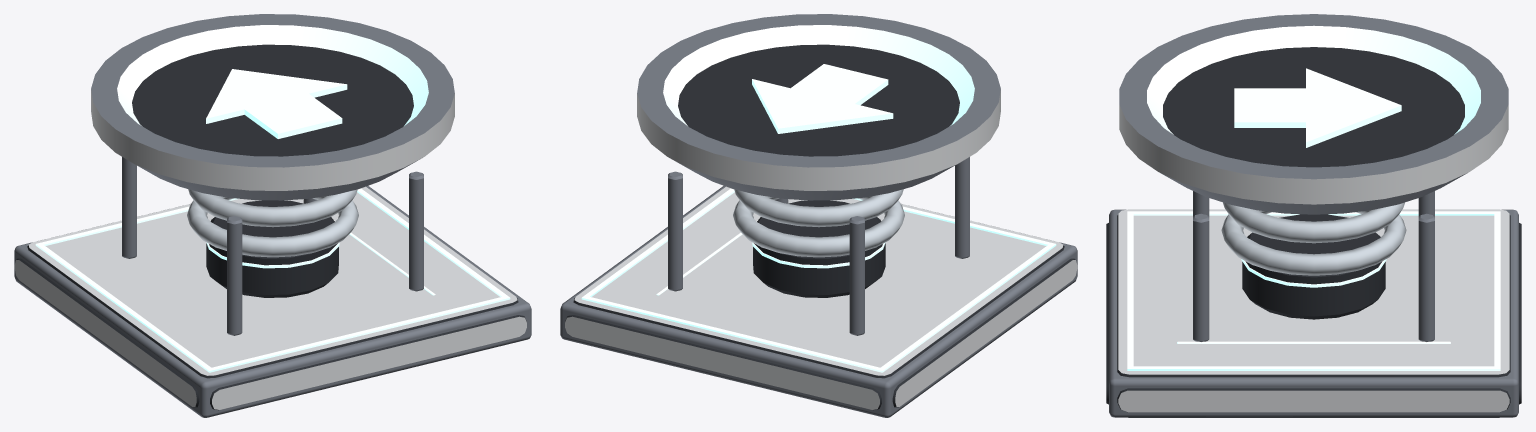
Rendered from R4X_JumpPadDeployer.fbx.
3 views of the same model, side by side, from view 1: azimuth 30°, elevation 25°; view 2: azimuth 150°, elevation 25°; view 3: azimuth 270°, elevation 25° (orthographic). The views are drawn at different scales.
Visible parts, largest first — view 1: R4X_JumpPadDeployer_Body, R4X_JumpPadDeployer_Pad; view 2: R4X_JumpPadDeployer_Body, R4X_JumpPadDeployer_Pad; view 3: R4X_JumpPadDeployer_Body, R4X_JumpPadDeployer_Pad.
Boxes of the visible parts, box(x1,y1,x2,y2) form: R4X_JumpPadDeployer_Body: box(14, 157, 531, 417); R4X_JumpPadDeployer_Pad: box(91, 14, 454, 200); R4X_JumpPadDeployer_Body: box(560, 157, 1077, 417); R4X_JumpPadDeployer_Pad: box(637, 14, 1000, 200); R4X_JumpPadDeployer_Body: box(1106, 191, 1521, 417); R4X_JumpPadDeployer_Pad: box(1119, 14, 1508, 214).
Bounding box in the file's own units: 0.52 × 0.33 × 0.52.
